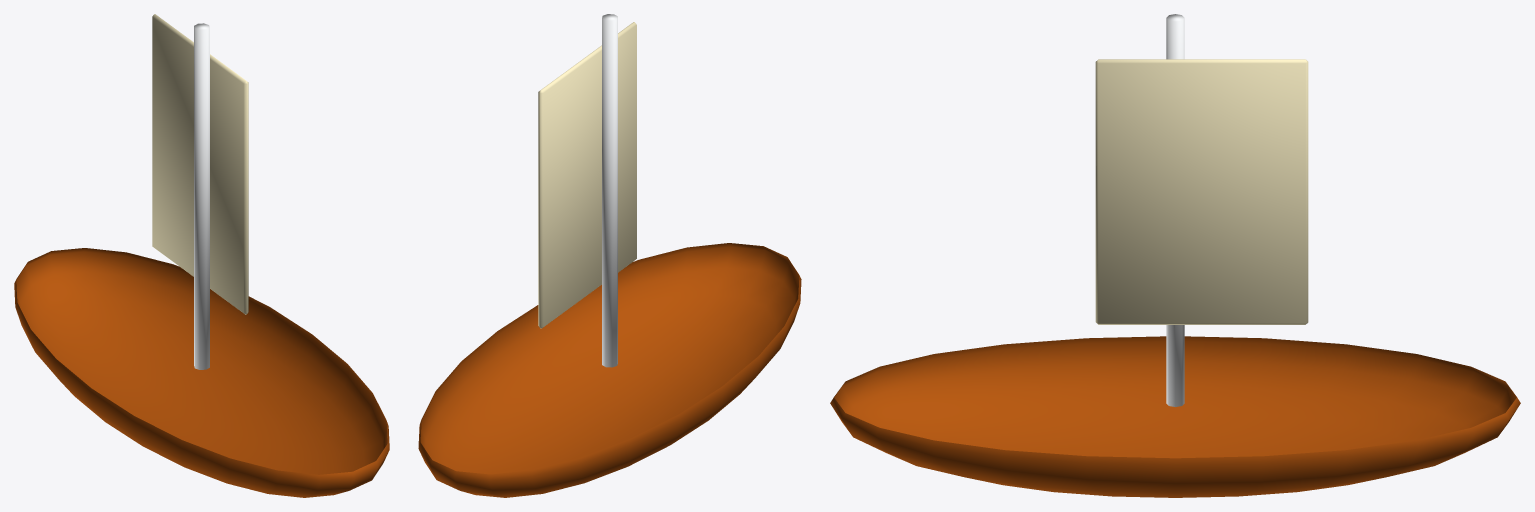
The model's file is boat.glb.
The picture shows the model from 3 angles, left to right: view 1: azimuth 30°, elevation 25°; view 2: azimuth 150°, elevation 25°; view 3: azimuth 270°, elevation 25°; orthographic projection. The views are drawn at different scales.
Visible parts, largest first — view 1: Hull, SailP, Mast; view 2: Hull, SailP, Mast; view 3: Hull, SailP, Mast.
Part boxes in pixels (<box>): Hull: <box>14,248,389,497</box>; SailP: <box>152,14,248,314</box>; Mast: <box>194,23,209,369</box>; Hull: <box>418,243,801,497</box>; SailP: <box>538,22,636,328</box>; Mast: <box>602,14,617,367</box>; Hull: <box>830,336,1520,497</box>; SailP: <box>1095,59,1308,324</box>; Mast: <box>1166,14,1184,406</box>.
Bounding box in the file's own units: 2.2 × 3.8 × 5.2.
